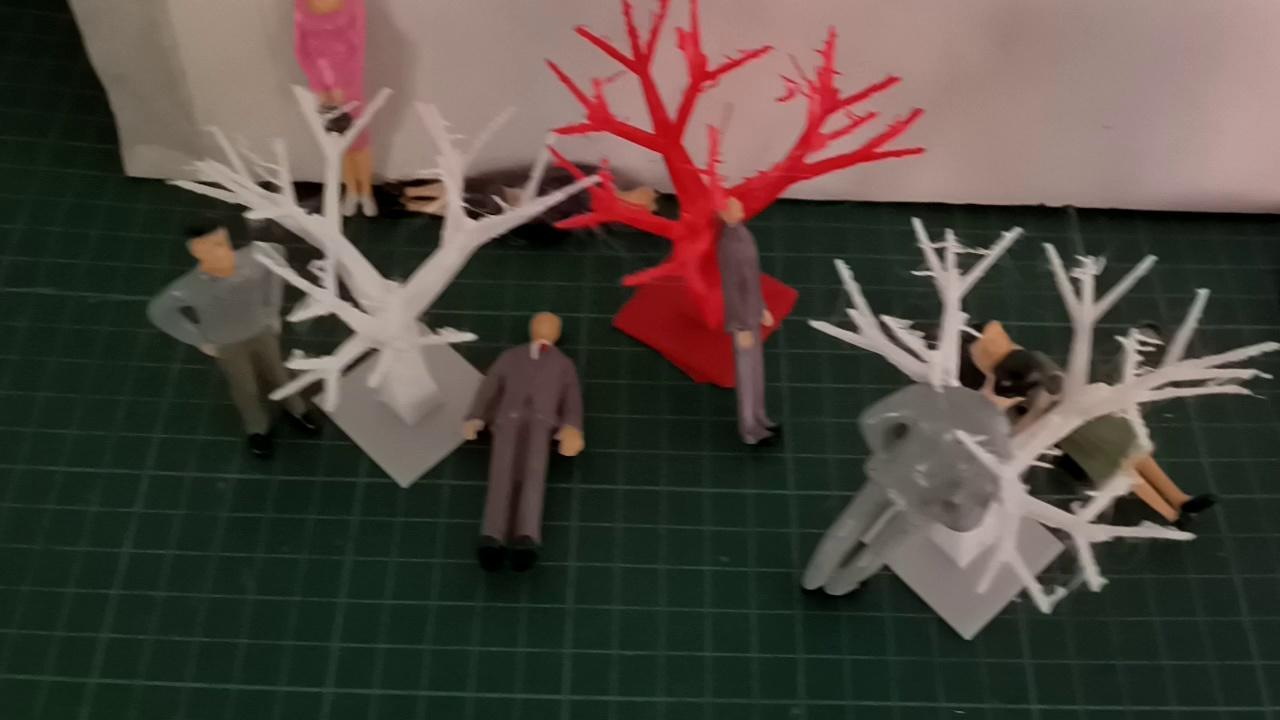human: (796, 349, 1039, 606), (968, 316, 1216, 528), (143, 223, 318, 464), (460, 308, 589, 568), (396, 165, 663, 236), (717, 191, 784, 450), (293, 0, 367, 218)
